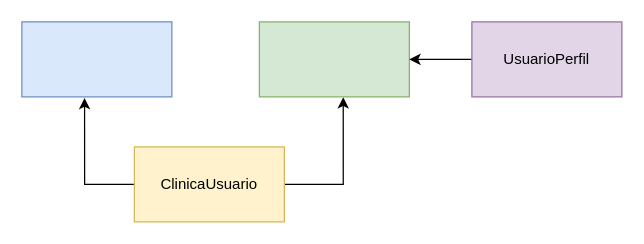
This 644x244 diagram has some shape labels left out. The centre of each missing label's shape, as x and y in pixels:
Clinica: (96,59)
Usuário: (333,59)
